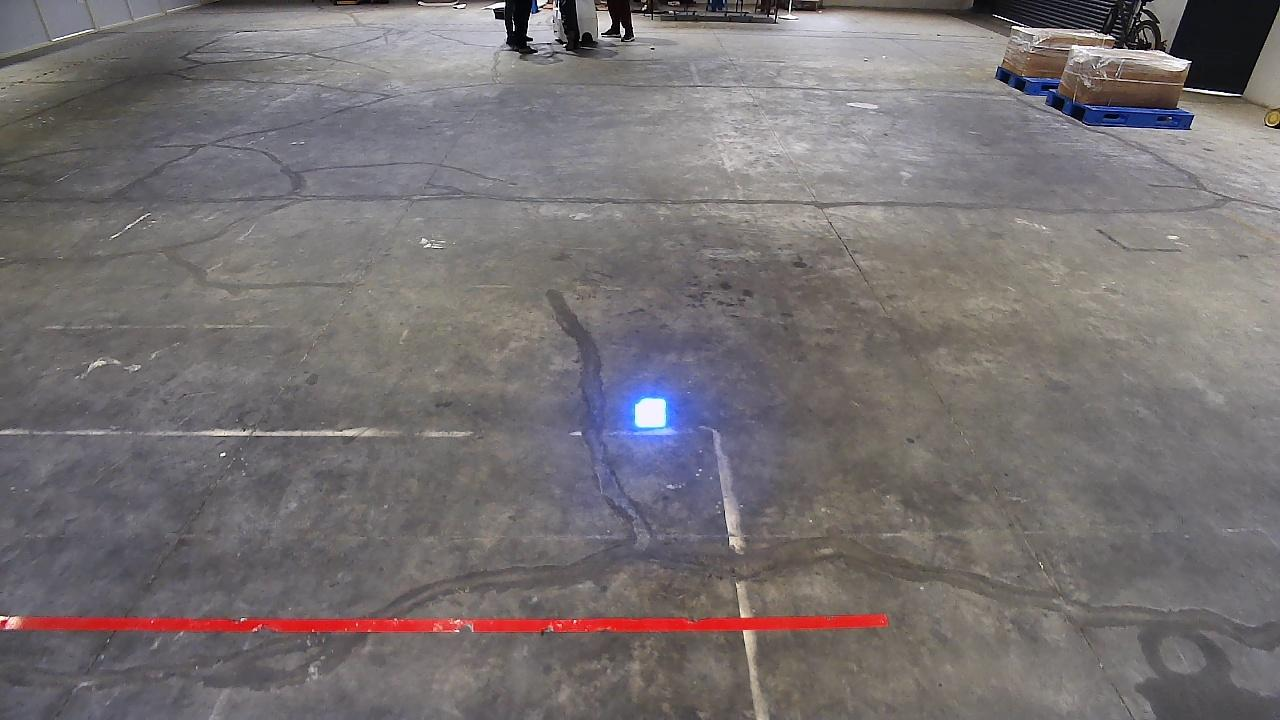red_line: (1, 611, 894, 630)
